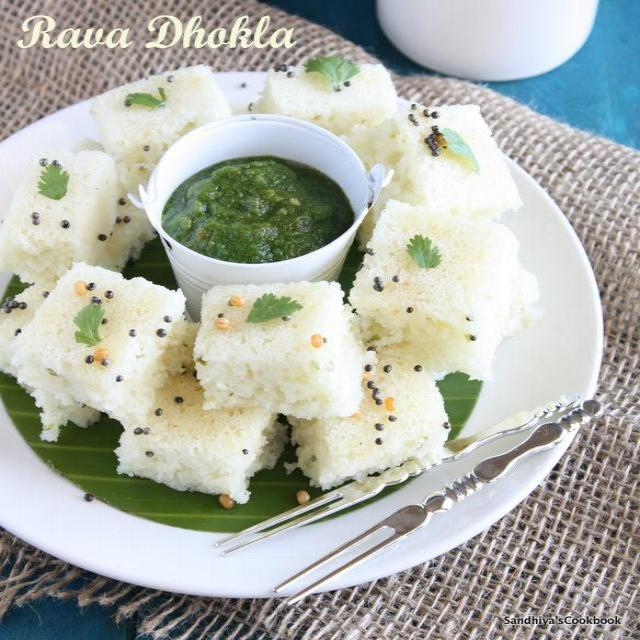dhokla: (0, 77, 511, 494)
